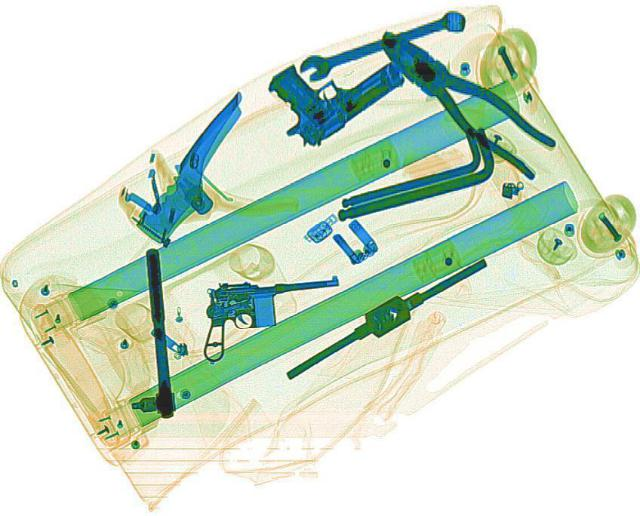Gun: (238, 25, 412, 150), (193, 271, 347, 361)
Pliers: (354, 18, 572, 179)
Wrench: (292, 3, 472, 84)
